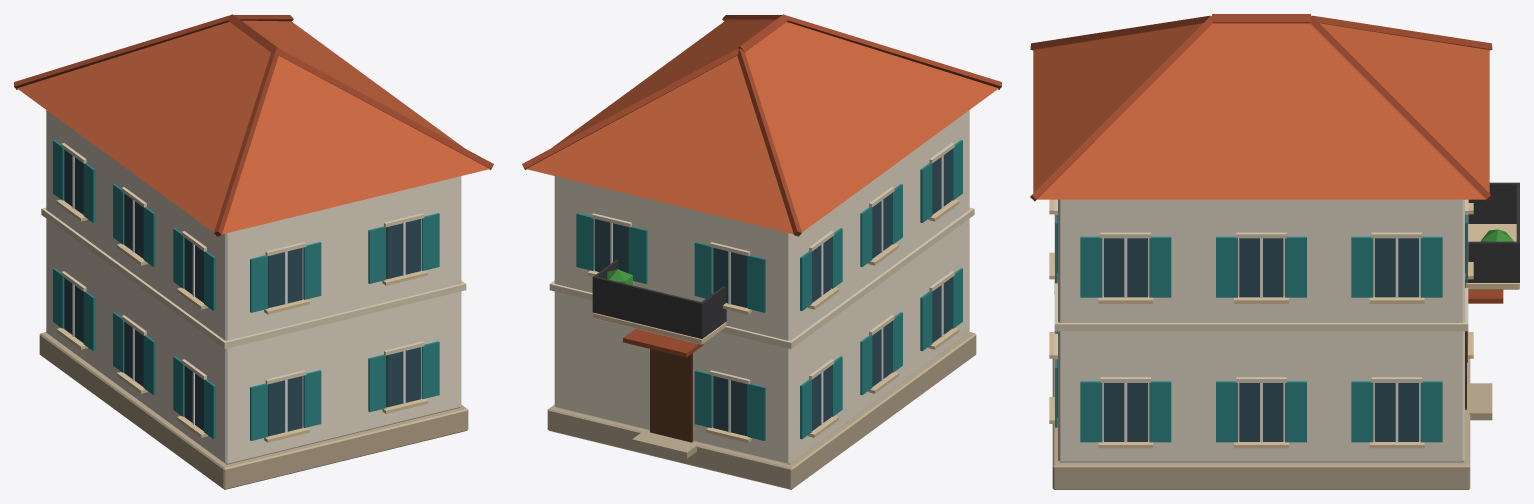
File: house_a.glb
3 renders of one model, left to right at view 1: azimuth 30°, elevation 25°; view 2: azimuth 150°, elevation 25°; view 3: azimuth 270°, elevation 25°, orthographic. The views are drawn at different scales.
Parts seen in each view (by area): view 1: house; view 2: house; view 3: house.
Boxes of the visible parts, x1,y1,x2,y2 form: house: [14, 14, 493, 489]; house: [522, 14, 1001, 489]; house: [1030, 14, 1519, 489].
Bounding box in the file's own units: 6.63 × 8.21 × 8.91.
